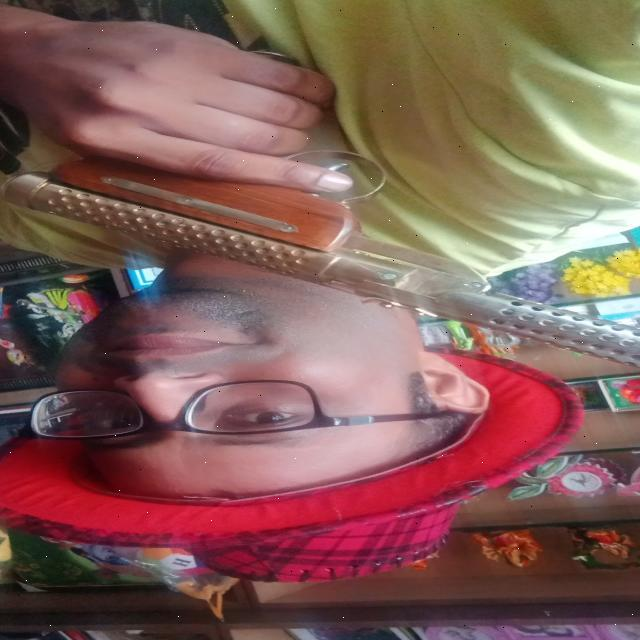gun: (5, 34, 640, 375)
